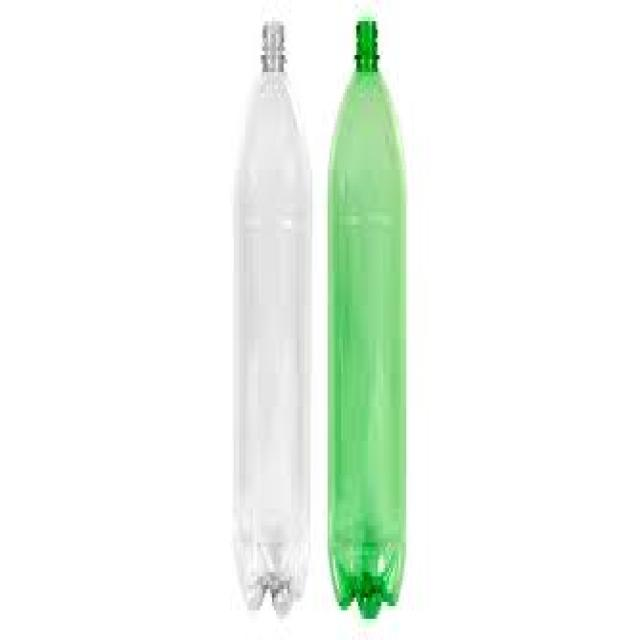bottom: (234, 509, 309, 615), (330, 539, 405, 619)
neck: (236, 19, 311, 250), (329, 19, 405, 214)
